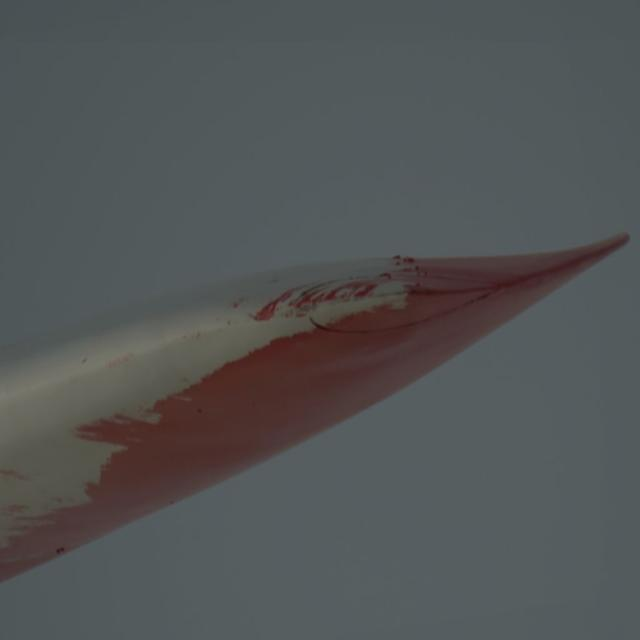surface_peeling: (119, 260, 415, 410), (7, 324, 111, 544)
